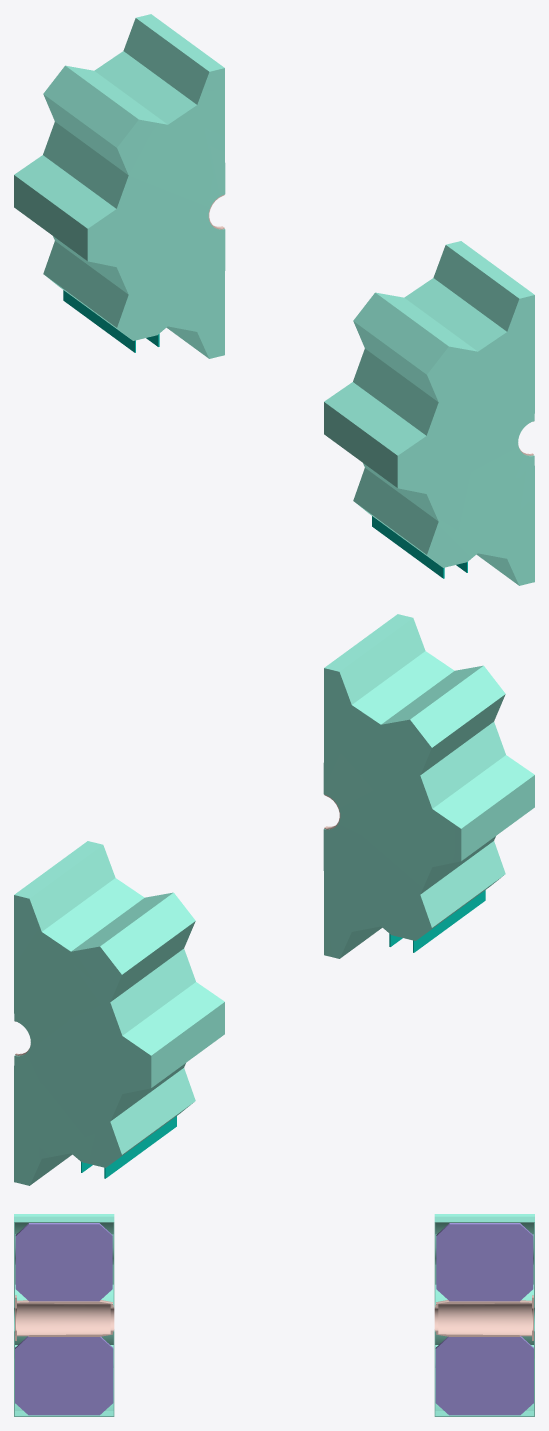
File: magnet-toroid-endcap-cut-2.glb
3 renders of one model, top to bottom at view 1: azimuth 30°, elevation 25°; view 2: azimuth 150°, elevation 25°; view 3: azimuth 270°, elevation 25°, orthographic. The views are drawn at different scales.
Parts seen in each view (by area): view 1: endcap toroid side C.010, endcap toroid side A.005; view 2: endcap toroid side A.005, endcap toroid side C.010; view 3: endcap toroid side A.005, endcap toroid side C.010.
Boxes of the visible parts, left/top/right/bottom form: endcap toroid side C.010: left=14, top=14, right=225, bottom=358; endcap toroid side A.005: left=324, top=241, right=534, bottom=585; endcap toroid side A.005: left=323, top=614, right=534, bottom=958; endcap toroid side C.010: left=14, top=841, right=224, bottom=1185; endcap toroid side A.005: left=14, top=1214, right=114, bottom=1416; endcap toroid side C.010: left=434, top=1214, right=534, bottom=1416.
Bounding box in the file's own units: 5.33 × 10.64 × 25.77.
